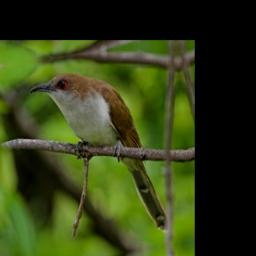Cuckoo: (27, 60, 168, 249)
